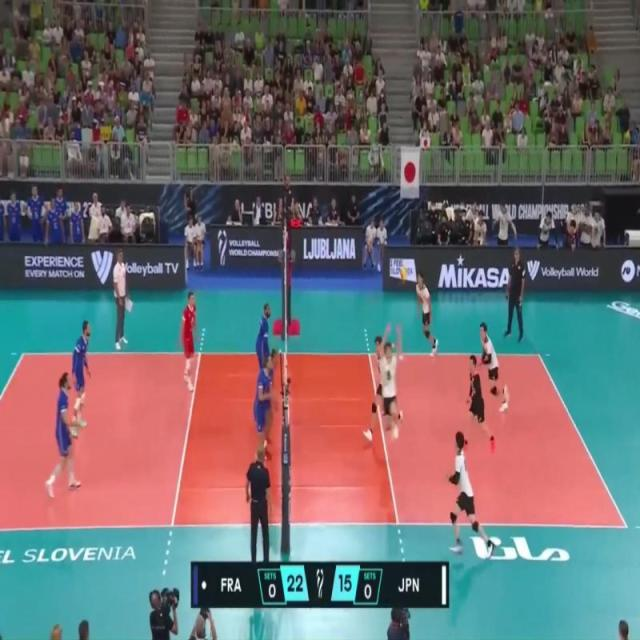volleyball: (398, 264, 408, 282)
